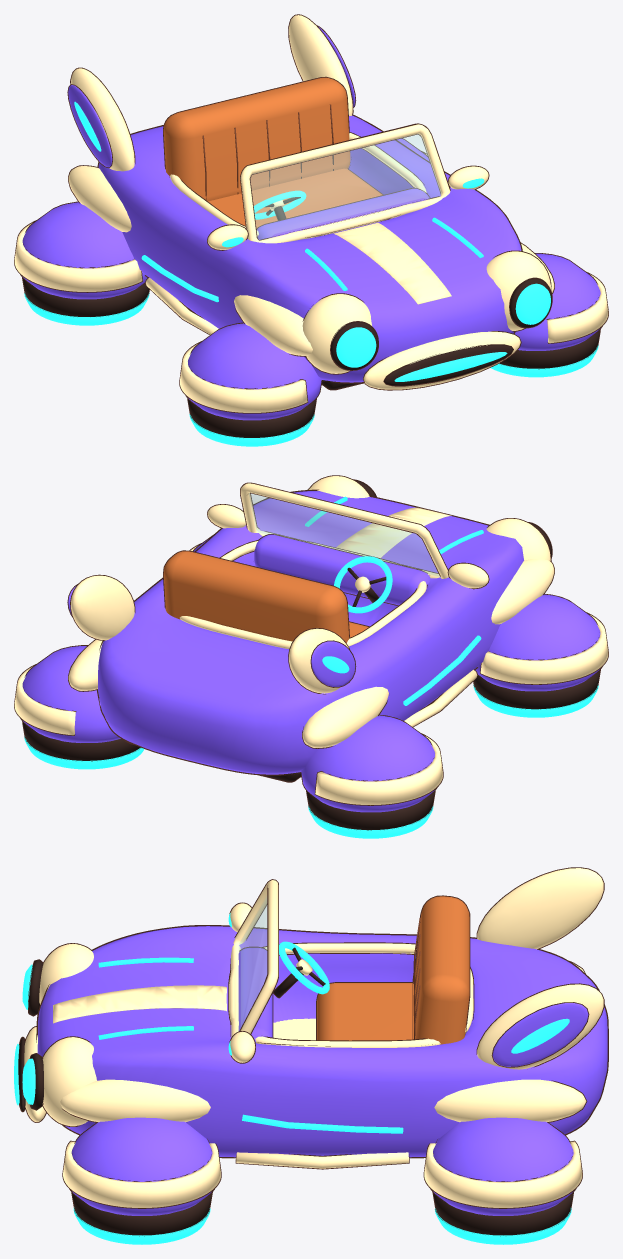
The model's file is schweber.glb.
3 renders of one model, top to bottom at view 1: azimuth 30°, elevation 25°; view 2: azimuth 150°, elevation 25°; view 3: azimuth 270°, elevation 25°, orthographic. The views are drawn at different scales.
Parts seen in each view (by area): view 1: Body_Mesh, Cube.003, Windshield_Glass, Hover_Cowl_FL_Mesh, Hover_Cowl_RL_Mesh, Windshield_Frame_Curve, Cube.002, Hood_Cream_Centre, Hover_Cowl_FR_Mesh, Hover_Cream_Trim_FL_Mesh, Hover_Cream_Trim_RL_Mesh, Sphere.004 (+26 smaller); view 2: Body_Mesh, Cube.003, Hover_Cowl_RL_Mesh, Windshield_Glass, Hover_Cowl_FL_Mesh, Cube.004, Hover_Cowl_RR_Mesh, Hover_Cream_Trim_RL_Mesh, Hover_Cream_Trim_FL_Mesh, Sphere.016, Sphere.001, Windshield_Frame_Curve (+22 smaller); view 3: Body_Mesh, Hover_Cowl_FR_Mesh, Hover_Cowl_RR_Mesh, Cube.003, Sphere.011, Cube.002, Sphere.003, Sphere.002, Hover_Cream_Trim_RR_Mesh, Hover_Cream_Trim_FR_Mesh, Hood_Cream_Centre, Sphere.005 (+25 smaller).
Part boxes in pixels (x1=…): Body_Mesh: x1=98, y1=115, x2=521, y2=382; Cube.003: x1=163, y1=77, x2=350, y2=201; Windshield_Glass: x1=250, y1=134, x2=441, y2=240; Hover_Cowl_FL_Mesh: x1=188, y1=323, x2=321, y2=420; Hover_Cowl_RL_Mesh: x1=22, y1=202, x2=147, y2=299; Windshield_Frame_Curve: x1=240, y1=124, x2=450, y2=243; Cube.002: x1=208, y1=168, x2=382, y2=228; Hood_Cream_Centre: x1=333, y1=222, x2=451, y2=304; Hover_Cowl_FR_Mesh: x1=515, y1=253, x2=600, y2=350; Hover_Cream_Trim_FL_Mesh: x1=180, y1=344, x2=307, y2=412; Hover_Cream_Trim_RL_Mesh: x1=14, y1=223, x2=142, y2=291; Sphere.004: x1=302, y1=294, x2=371, y2=373; Body_Mesh: x1=98, y1=491, x2=523, y2=774; Cube.003: x1=163, y1=551, x2=349, y2=642; Hover_Cowl_RL_Mesh: x1=301, y1=715, x2=434, y2=812; Windshield_Glass: x1=249, y1=493, x2=439, y2=576; Hover_Cowl_FL_Mesh: x1=475, y1=594, x2=600, y2=691; Cube.004: x1=254, y1=534, x2=430, y2=605; Hover_Cowl_RR_Mesh: x1=22, y1=646, x2=120, y2=742; Hover_Cream_Trim_RL_Mesh: x1=315, y1=736, x2=442, y2=805; Hover_Cream_Trim_FL_Mesh: x1=480, y1=615, x2=608, y2=684; Sphere.016: x1=71, y1=575, x2=134, y2=640; Sphere.001: x1=302, y1=686, x2=388, y2=747; Windshield_Frame_Curve: x1=240, y1=483, x2=448, y2=578; Body_Mesh: x1=37, y1=926, x2=607, y2=1157; Hover_Cowl_FR_Mesh: x1=71, y1=1117, x2=212, y2=1215; Hover_Cowl_RR_Mesh: x1=433, y1=1117, x2=573, y2=1215; Cube.003: x1=413, y1=896, x2=469, y2=1044; Sphere.011: x1=477, y1=868, x2=603, y2=949; Cube.002: x1=317, y1=983, x2=413, y2=1040; Sphere.003: x1=434, y1=1079, x2=586, y2=1122; Sphere.002: x1=59, y1=1079, x2=210, y2=1122; Hover_Cream_Trim_RR_Mesh: x1=424, y1=1141, x2=582, y2=1207; Hover_Cream_Trim_FR_Mesh: x1=63, y1=1141, x2=220, y2=1207; Hood_Cream_Centre: x1=53, y1=985, x2=226, y2=1023; Sphere.005: x1=42, y1=1037, x2=96, y2=1126.
Bounding box in the file's own units: 1.81 × 0.8509 × 2.08.
